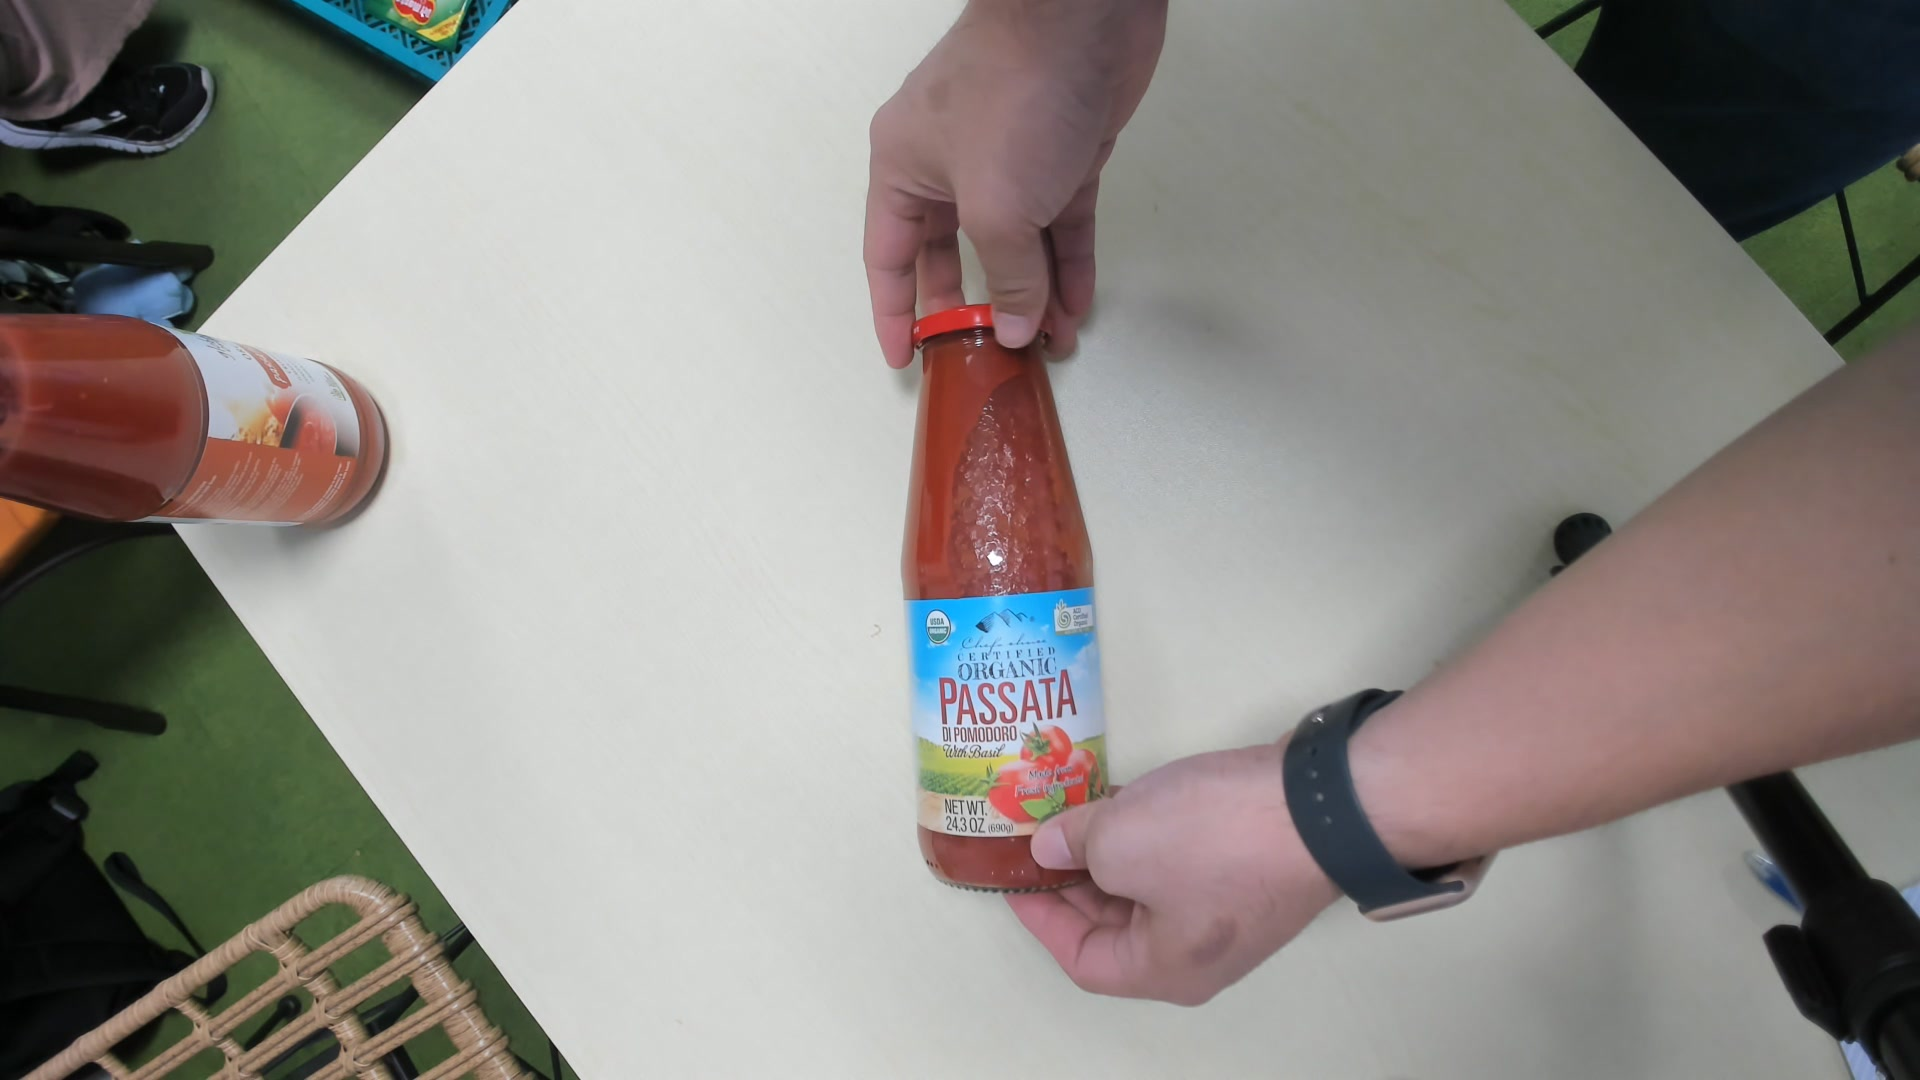PastaSauce_600-699g_NonHalal_NonHealthy: (902, 299, 1110, 894)
